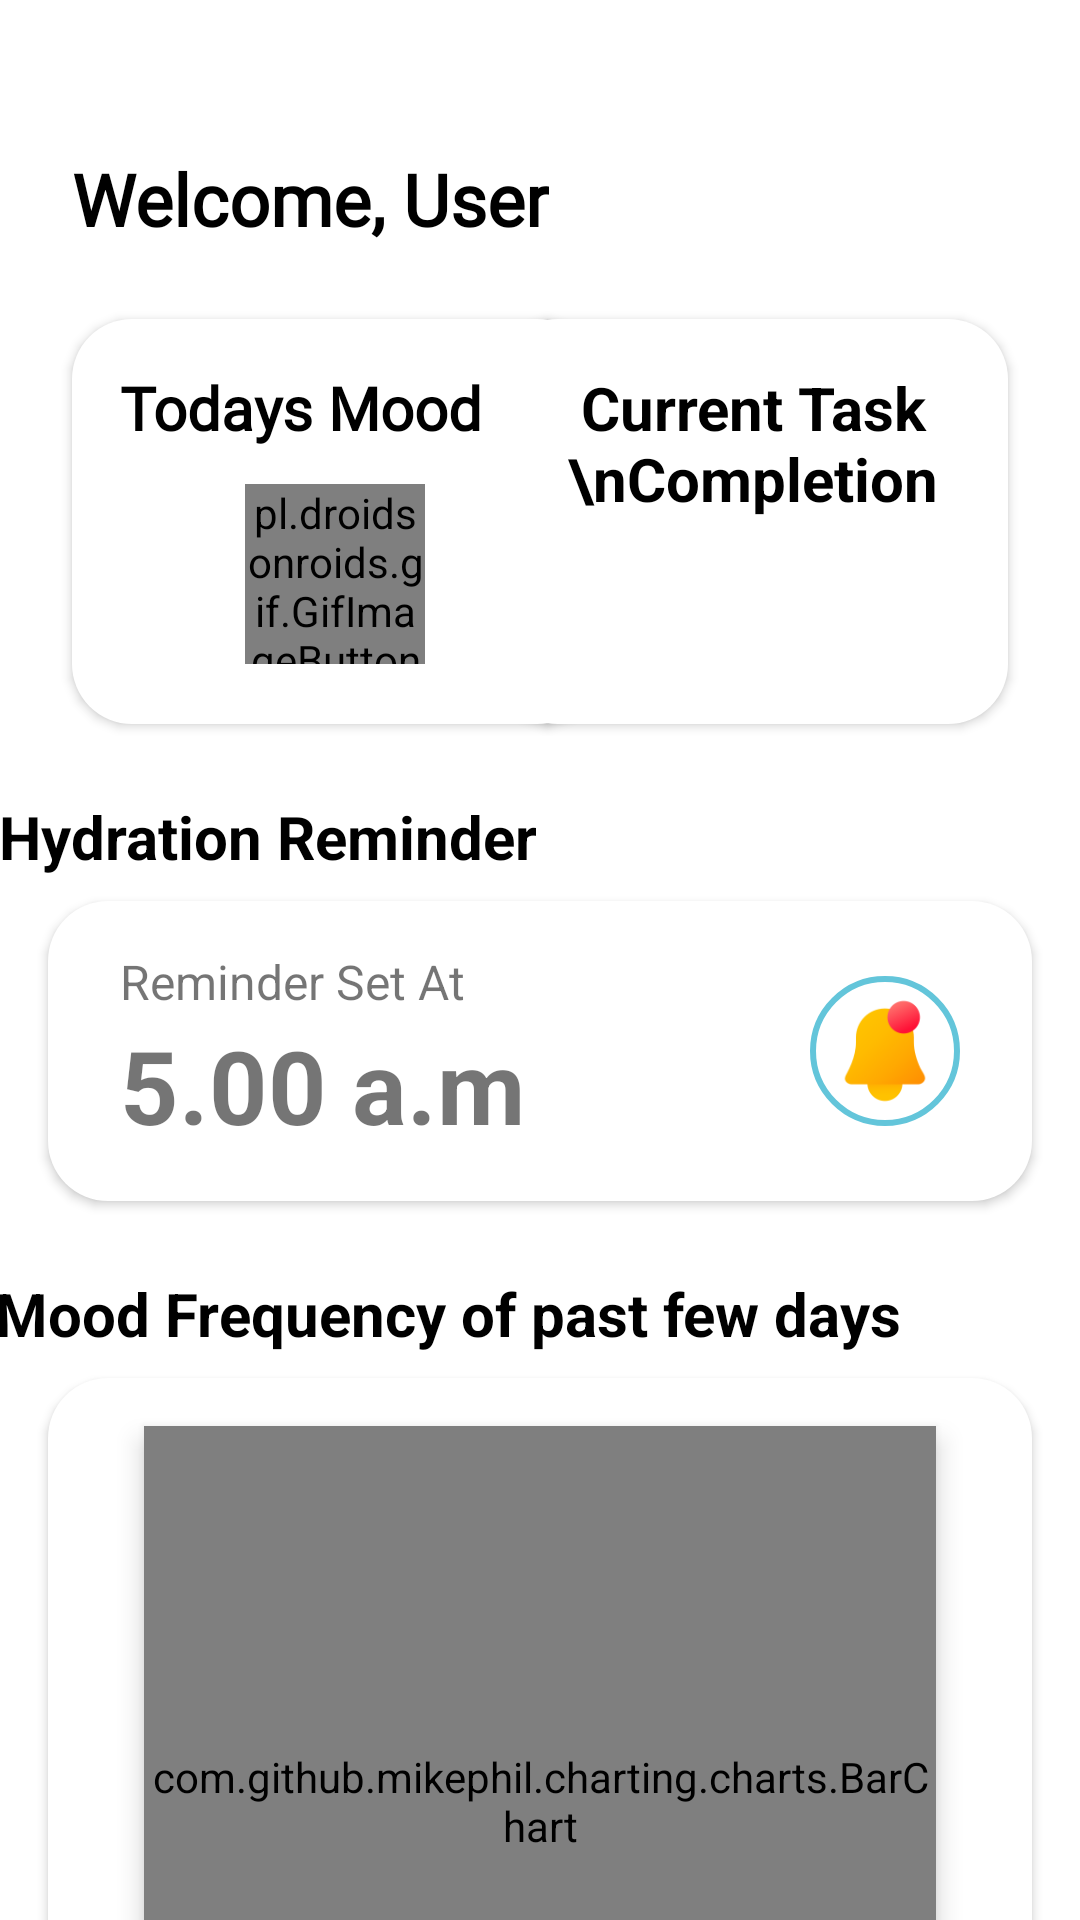

Screen size 1080px×1920px. Icon name, then its center in pixels as [x,y]:
notification: [885,1051]
